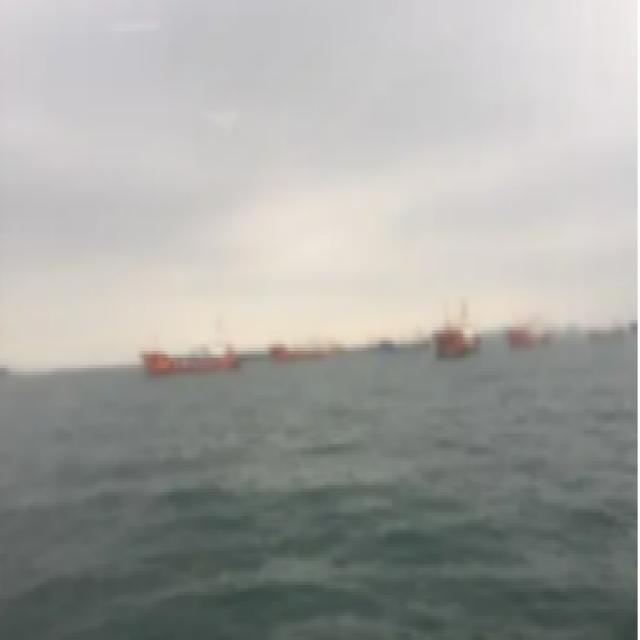cargoship: (127, 329, 268, 388), (417, 303, 486, 365)
